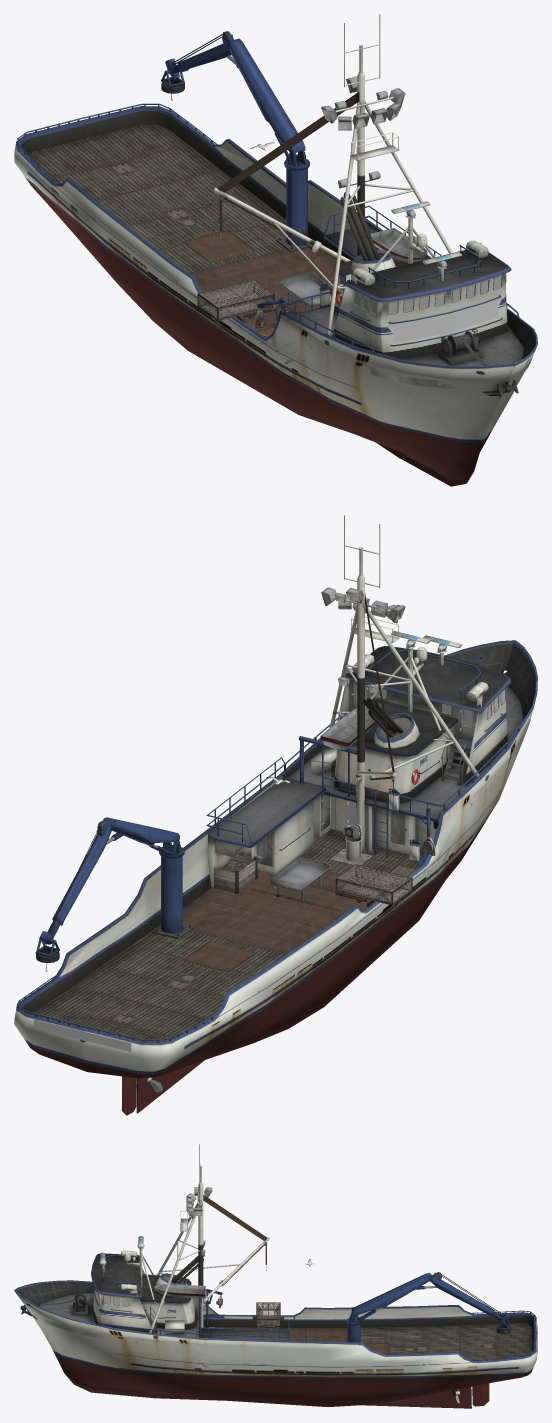
The model's file is nordwestern.FBX.
3 renders of one model, top to bottom at view 1: azimuth 30°, elevation 25°; view 2: azimuth 150°, elevation 25°; view 3: azimuth 270°, elevation 25°, orthographic. The views are drawn at different scales.
Visible parts, largest first — view 1: group, block, glass; view 2: group, block; view 3: group, block.
Boxes of the visible parts, x1,y1,x2,y2 form: group: (14, 14, 537, 486); block: (197, 279, 274, 320); glass: (354, 276, 501, 314); group: (14, 515, 537, 1115); block: (335, 864, 412, 905); group: (14, 1144, 537, 1408); block: (256, 1302, 280, 1326).
Size of the model in its own units: 23.25 by 52.69 by 96.63.
